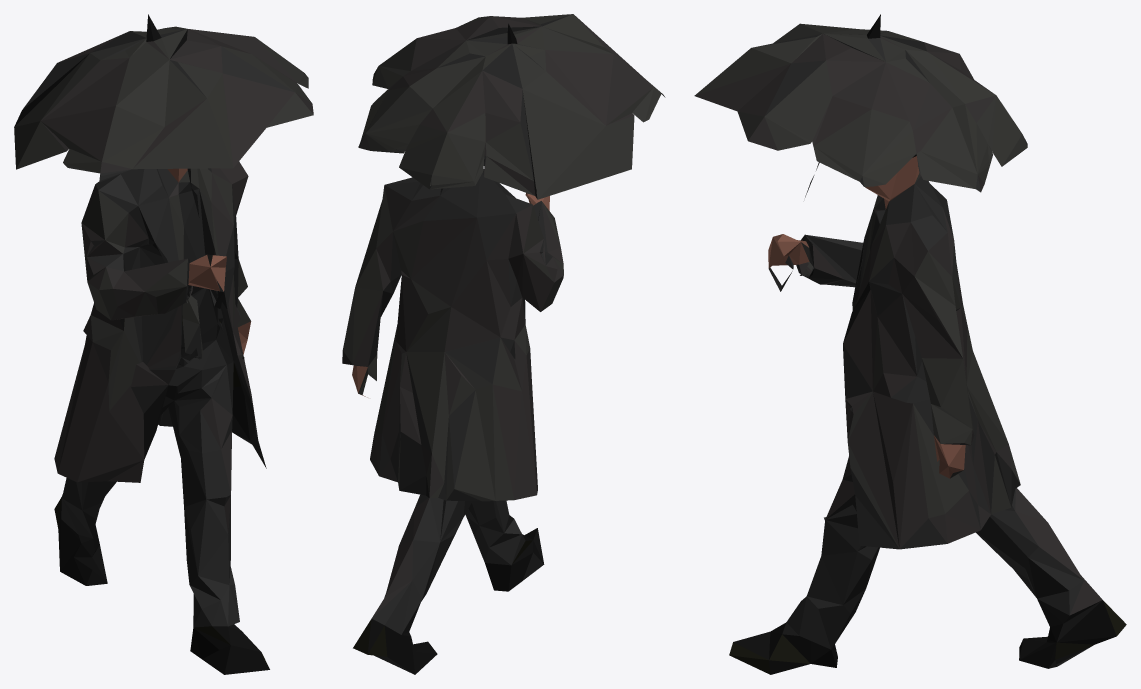
File: walker.glb
The picture shows the model from 3 angles, left to right: view 1: azimuth 30°, elevation 25°; view 2: azimuth 150°, elevation 25°; view 3: azimuth 270°, elevation 25°; orthographic projection. The views are drawn at different scales.
Parts seen in each view (by area): view 1: walker; view 2: walker; view 3: walker.
Boxes of the visible parts, bbox=[...] form: walker: bbox=[14, 14, 313, 674]; walker: bbox=[342, 14, 665, 674]; walker: bbox=[694, 14, 1126, 674].
Size of the model in its own units: 0.9823 by 2.08 by 1.29.
